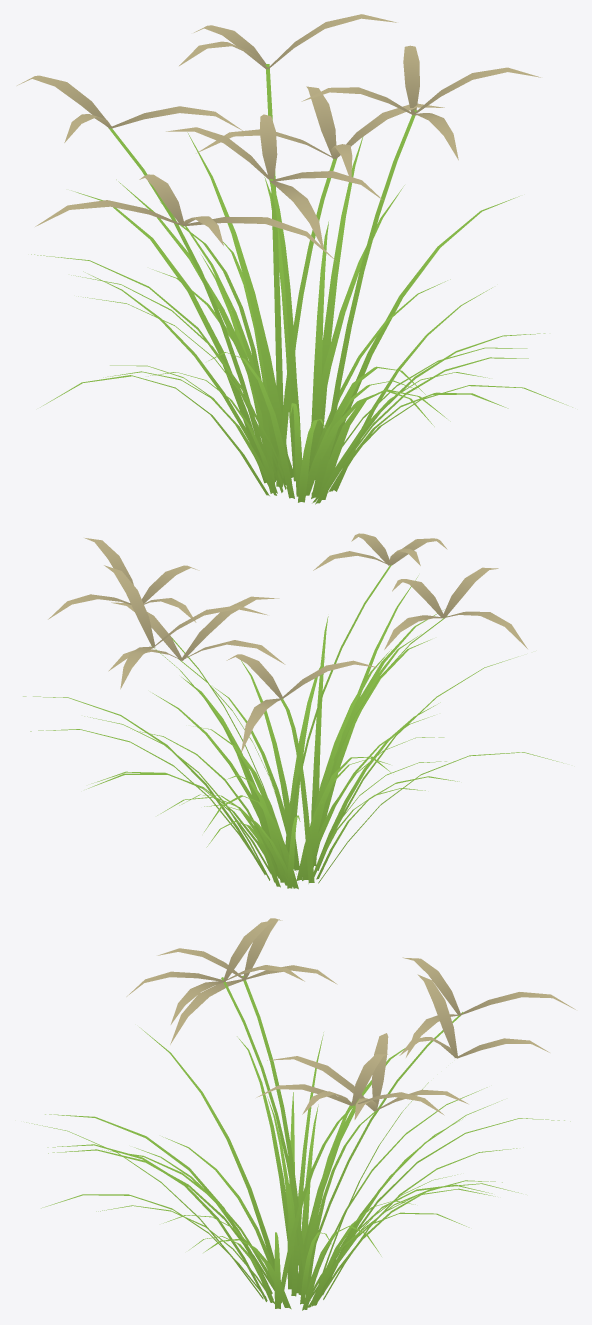
Rendered from feather_grass1.gltf.
3 renders of one model, top to bottom at view 1: azimuth 30°, elevation 25°; view 2: azimuth 150°, elevation 25°; view 3: azimuth 270°, elevation 25°, orthographic. The views are drawn at different scales.
Parts seen in each view (by area): view 1: feather_grass1_blade_LOD0, feather_grass1_head_LOD0, feather_grass1_stalk_LOD0; view 2: feather_grass1_blade_LOD0, feather_grass1_head_LOD0, feather_grass1_stalk_LOD0; view 3: feather_grass1_blade_LOD0, feather_grass1_head_LOD0, feather_grass1_stalk_LOD0.
Boxes of the visible parts, left/top/right/bottom form: feather_grass1_blade_LOD0: left=31, top=132, right=572, bottom=504; feather_grass1_head_LOD0: left=17, top=14, right=540, bottom=261; feather_grass1_stalk_LOD0: left=108, top=64, right=417, bottom=493; feather_grass1_blade_LOD0: left=23, top=575, right=563, bottom=889; feather_grass1_head_LOD0: left=48, top=533, right=527, bottom=752; feather_grass1_stalk_LOD0: left=151, top=564, right=447, bottom=882; feather_grass1_blade_LOD0: left=26, top=1027, right=570, bottom=1310; feather_grass1_head_LOD0: left=126, top=918, right=575, bottom=1119; feather_grass1_stalk_LOD0: left=221, top=976, right=463, bottom=1303.
Size of what is drawn, in the model's own units: 1.23 by 0.8171 by 1.27.
